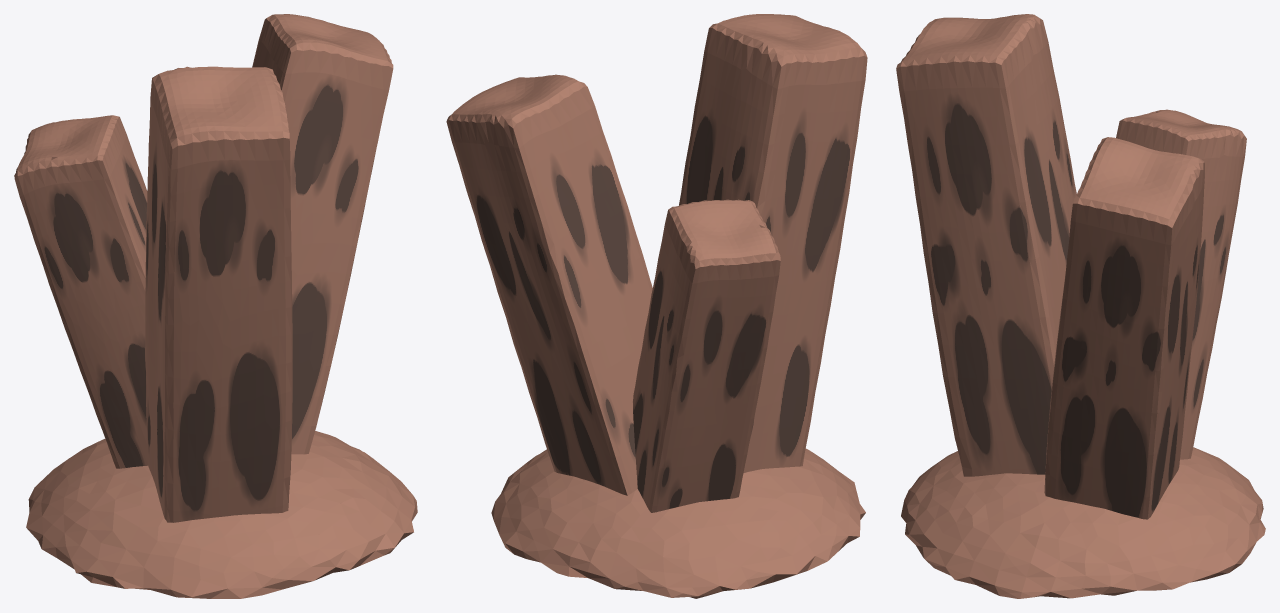
The model's file is Gusthrine.glb.
The picture shows the model from 3 angles, left to right: view 1: azimuth 30°, elevation 25°; view 2: azimuth 150°, elevation 25°; view 3: azimuth 270°, elevation 25°; orthographic projection. The views are drawn at different scales.
Parts seen in each view (by area): view 1: Rectangle 1, Base, Rectangle 3, Rectangle 2; view 2: Rectangle 3, Rectangle 1, Rectangle 2, Base; view 3: Rectangle 1, Rectangle 3, Base, Rectangle 2.
Part boxes in pixels (left/top/right/bottom): Rectangle 1: left=145, top=66, right=292, bottom=522; Base: left=26, top=431, right=417, bottom=598; Rectangle 3: left=252, top=14, right=393, bottom=454; Rectangle 2: left=14, top=115, right=147, bottom=468; Rectangle 3: left=446, top=74, right=652, bottom=495; Rectangle 1: left=679, top=14, right=867, bottom=473; Rectangle 2: left=633, top=199, right=780, bottom=512; Base: left=491, top=448, right=865, bottom=598; Rectangle 1: left=896, top=14, right=1076, bottom=476; Rectangle 3: left=1044, top=137, right=1204, bottom=519; Base: left=901, top=447, right=1265, bottom=598; Rectangle 2: left=1116, top=109, right=1246, bottom=459.
Size of the model in its own units: 5.34 by 6.94 by 4.88.
Materials: 4 (4 with a texture image).
